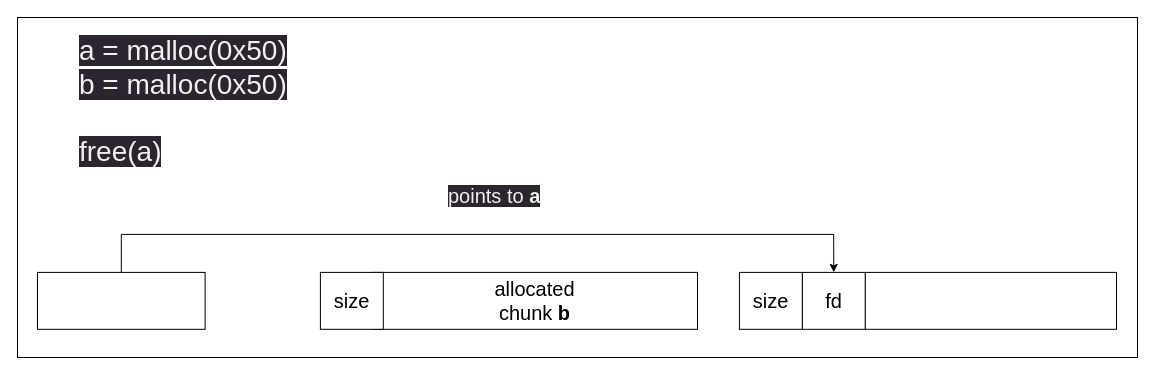
This 1155x375 diagram has some shape labels left out. Each missing label, with the centre of its shape:
other metadata chunk a: point 990,300
tcache: point 120,300
